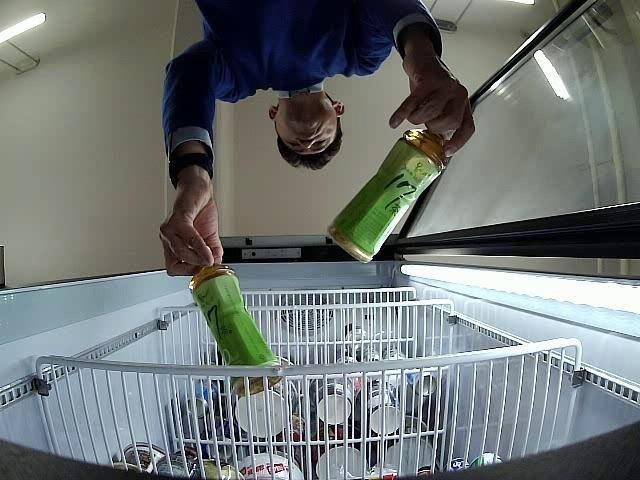19_17cha: (328, 129, 456, 263), (189, 263, 281, 394)
